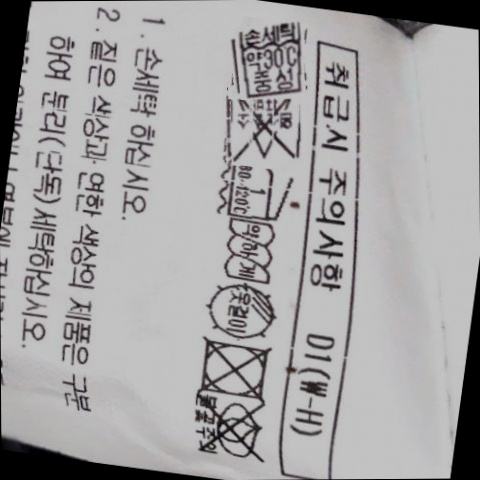DN_tumble_dry: (191, 336, 275, 400)
hand_wash: (231, 25, 309, 95)
iron_low: (222, 163, 290, 222)
line_dry_in_shade: (202, 283, 282, 339)
wring: (221, 219, 276, 285)
